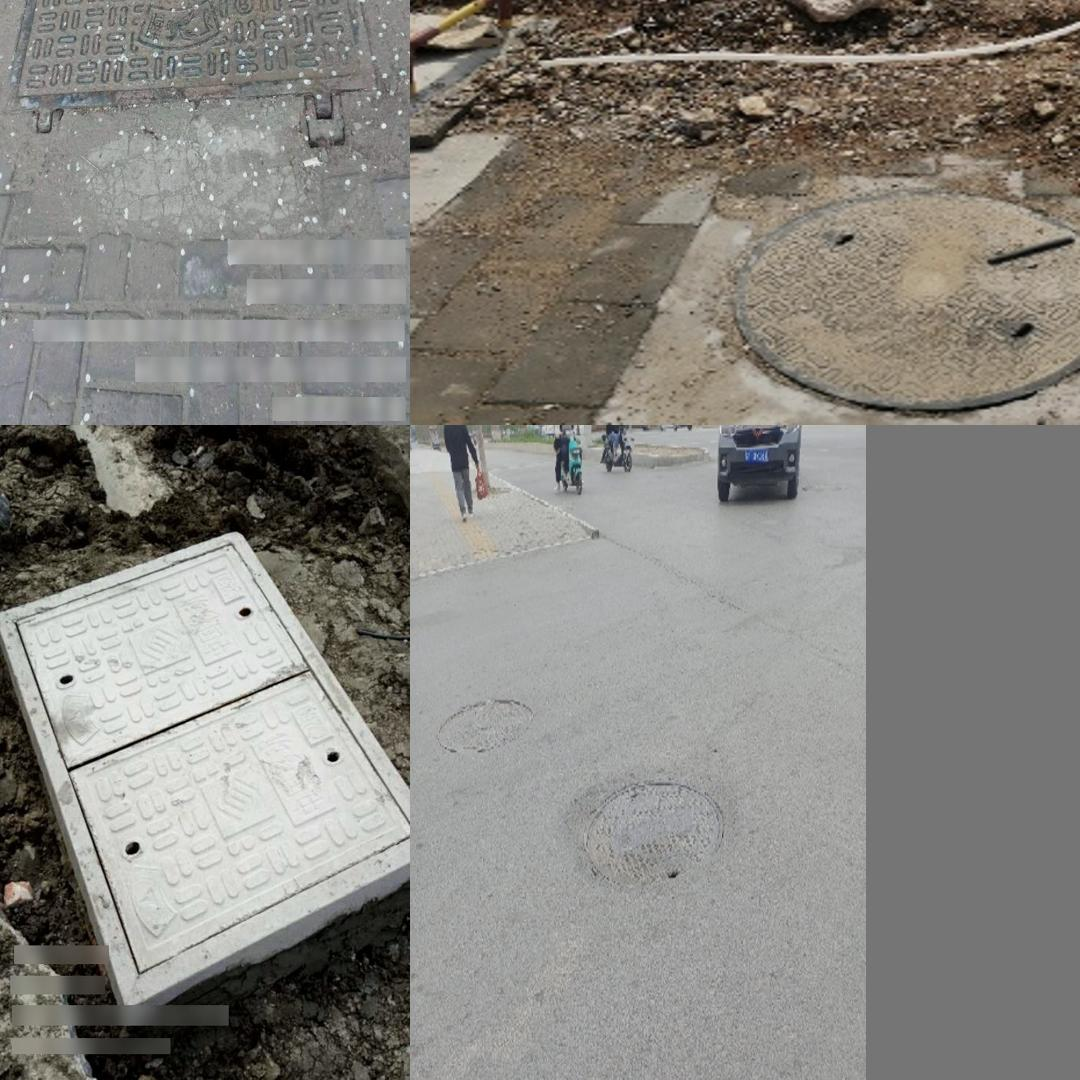good: (3, 532, 408, 1005), (716, 195, 1080, 397), (7, 0, 378, 144), (584, 780, 724, 881), (435, 698, 532, 752)
